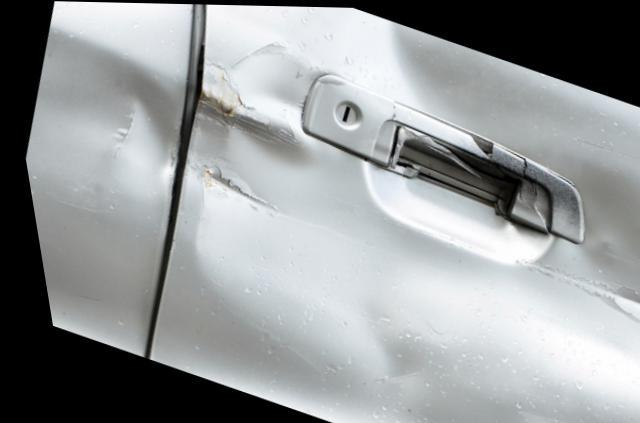dent: (192, 45, 640, 423), (21, 31, 174, 203), (327, 6, 453, 119)
